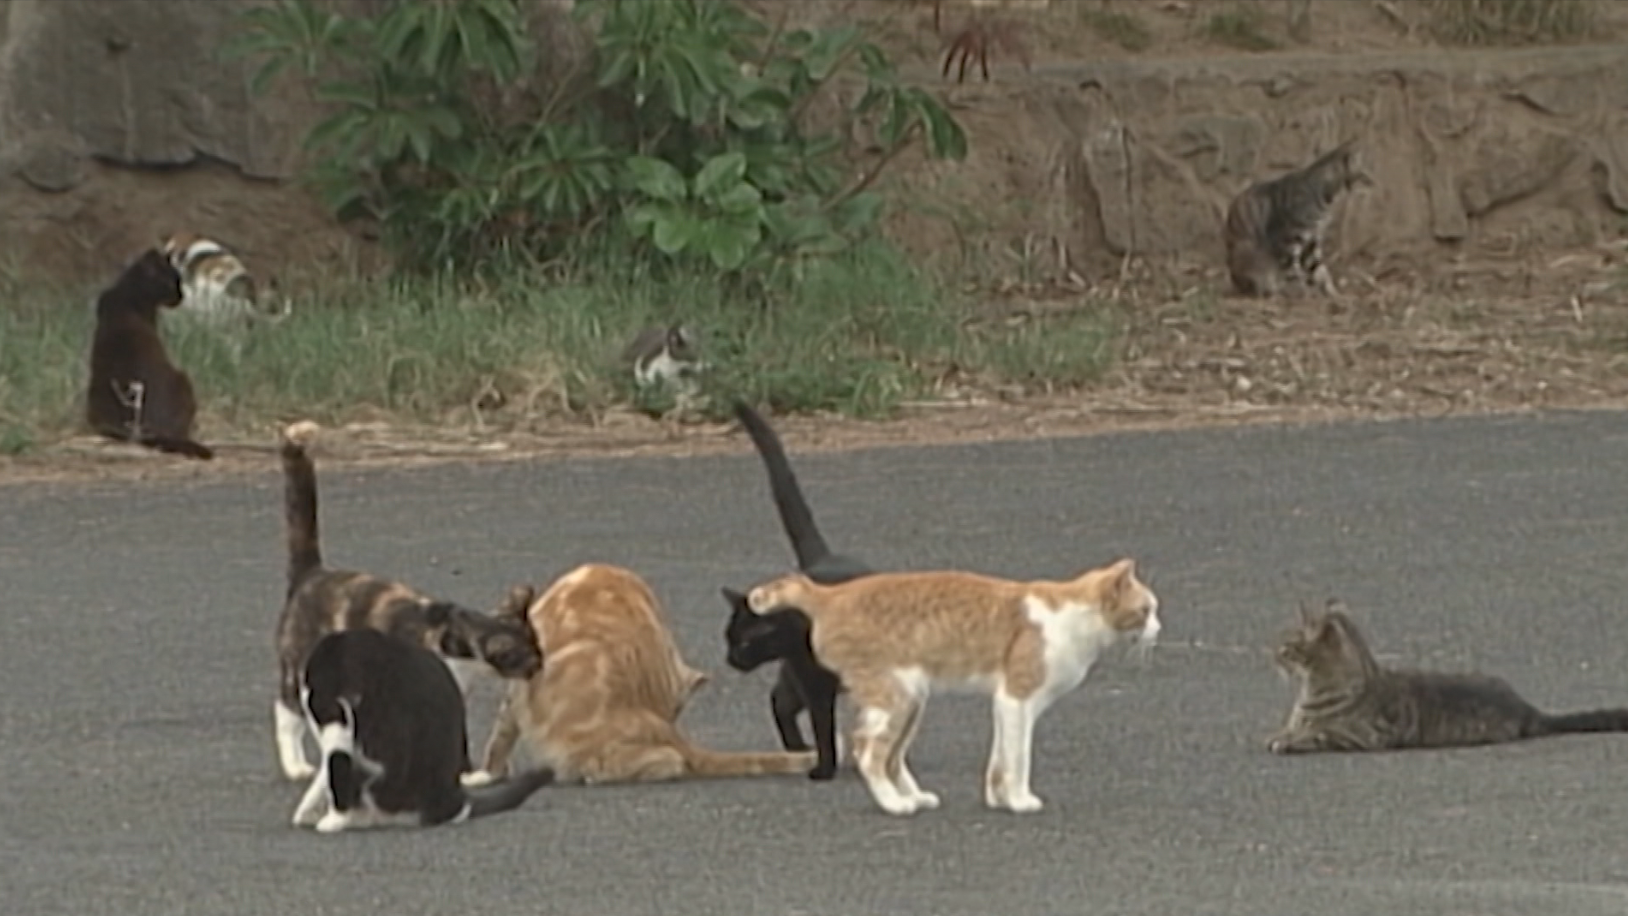Cat: (761, 535, 1181, 827), (1250, 582, 1628, 795)
